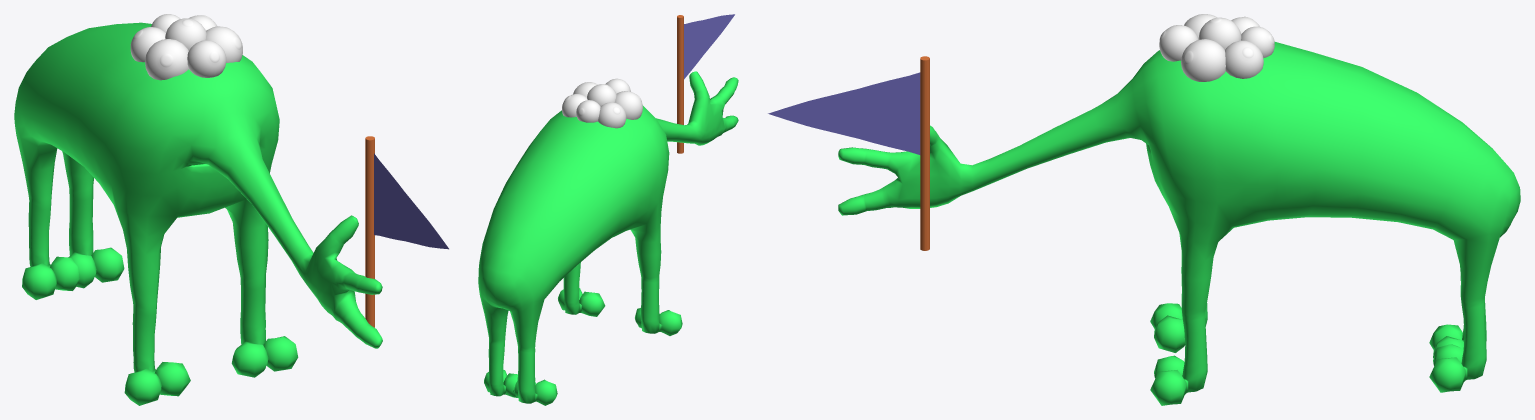
The model's file is lisp_alien.obj.
3 views of the same model, side by side, from view 1: azimuth 30°, elevation 25°; view 2: azimuth 150°, elevation 25°; view 3: azimuth 270°, elevation 25° (orthographic). The views are drawn at different scales.
Parts seen in each view (by area): view 1: Lisp_Body LISP, Flag_Cloth Flag, LISP Lisp_Eyes Lisp_Eyes_4 Lisp_Eyes_5 pSphere1 group1 group1 pS, Flag Flag_Stick, LISP pSphere1 Lisp_Eyes_1 Lisp_Eyes, LISP Lisp_Eyes pSphere1 group2 Lisp_Eyes_4 Lisp_Eyes_5 group2 pS, LISP Lisp_Eyes pSphere1 Lisp_Eyes_2; view 2: Lisp_Body LISP, Flag_Cloth Flag, LISP Lisp_Eyes pSphere1 group2 Lisp_Eyes_4 Lisp_Eyes_5 group2 pS, Flag Flag_Stick, LISP Lisp_Eyes Lisp_Eyes_4 Lisp_Eyes_5 pSphere1 group1 group1 pS, LISP Lisp_Eyes pSphere1 Lisp_Eyes_2, LISP Lisp_Eyes pSphere1 Lisp_Eyes_3, LISP pSphere1 Lisp_Eyes_1 Lisp_Eyes; view 3: Lisp_Body LISP, Flag_Cloth Flag, LISP Lisp_Eyes Lisp_Eyes_4 Lisp_Eyes_5 pSphere1 group1 group1 pS, Flag Flag_Stick, LISP Lisp_Eyes pSphere1 group2 Lisp_Eyes_4 Lisp_Eyes_5 group2 pS, LISP pSphere1 Lisp_Eyes_1 Lisp_Eyes, LISP Lisp_Eyes pSphere1 Lisp_Eyes_2.
Boxes of the visible parts, box(x1,y1,x2,y2) form: Lisp_Body LISP: box(14, 22, 382, 405); Flag_Cloth Flag: box(374, 153, 448, 249); LISP Lisp_Eyes Lisp_Eyes_4 Lisp_Eyes_5 pSphere1 group1 group1 pS: box(145, 26, 242, 80); Flag Flag_Stick: box(365, 136, 374, 327); LISP pSphere1 Lisp_Eyes_1 Lisp_Eyes: box(187, 40, 226, 77); LISP Lisp_Eyes pSphere1 group2 Lisp_Eyes_4 Lisp_Eyes_5 group2 pS: box(130, 15, 216, 62); LISP Lisp_Eyes pSphere1 Lisp_Eyes_2: box(165, 18, 206, 50); Lisp_Body LISP: box(478, 71, 738, 405); Flag_Cloth Flag: box(684, 14, 734, 79); LISP Lisp_Eyes pSphere1 group2 Lisp_Eyes_4 Lisp_Eyes_5 group2 pS: box(562, 94, 626, 128); Flag Flag_Stick: box(677, 15, 683, 153); LISP Lisp_Eyes Lisp_Eyes_4 Lisp_Eyes_5 pSphere1 group1 group1 pS: box(573, 82, 642, 119); LISP Lisp_Eyes pSphere1 Lisp_Eyes_2: box(587, 84, 616, 106); LISP Lisp_Eyes pSphere1 Lisp_Eyes_3: box(576, 100, 600, 122); LISP pSphere1 Lisp_Eyes_1 Lisp_Eyes: box(605, 78, 630, 93); Lisp_Body LISP: box(838, 42, 1520, 405); Flag_Cloth Flag: box(768, 72, 920, 154); LISP Lisp_Eyes Lisp_Eyes_4 Lisp_Eyes_5 pSphere1 group1 group1 pS: box(1181, 14, 1225, 81); Flag Flag_Stick: box(920, 56, 929, 250); LISP Lisp_Eyes pSphere1 group2 Lisp_Eyes_4 Lisp_Eyes_5 group2 pS: box(1225, 16, 1263, 78); LISP pSphere1 Lisp_Eyes_1 Lisp_Eyes: box(1159, 25, 1198, 61); LISP Lisp_Eyes pSphere1 Lisp_Eyes_2: box(1198, 17, 1241, 49).
Size of the model in its own units: 2.07 by 4.06 by 7.78.
